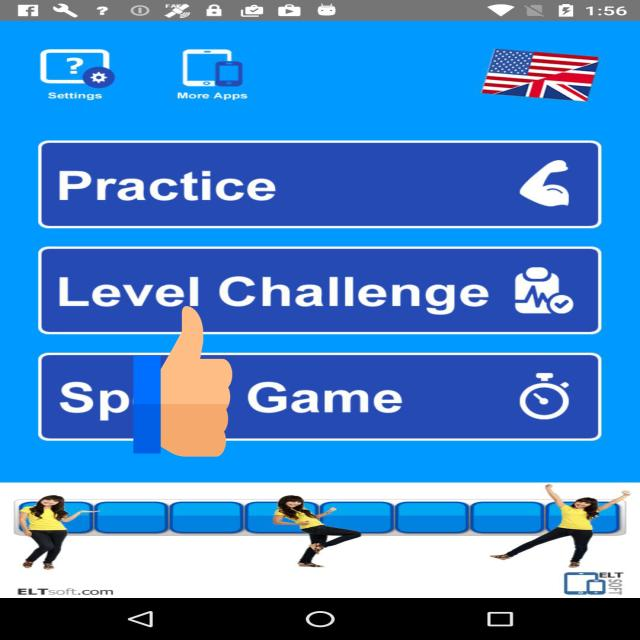privacy zuckering: (134, 302, 232, 460)
